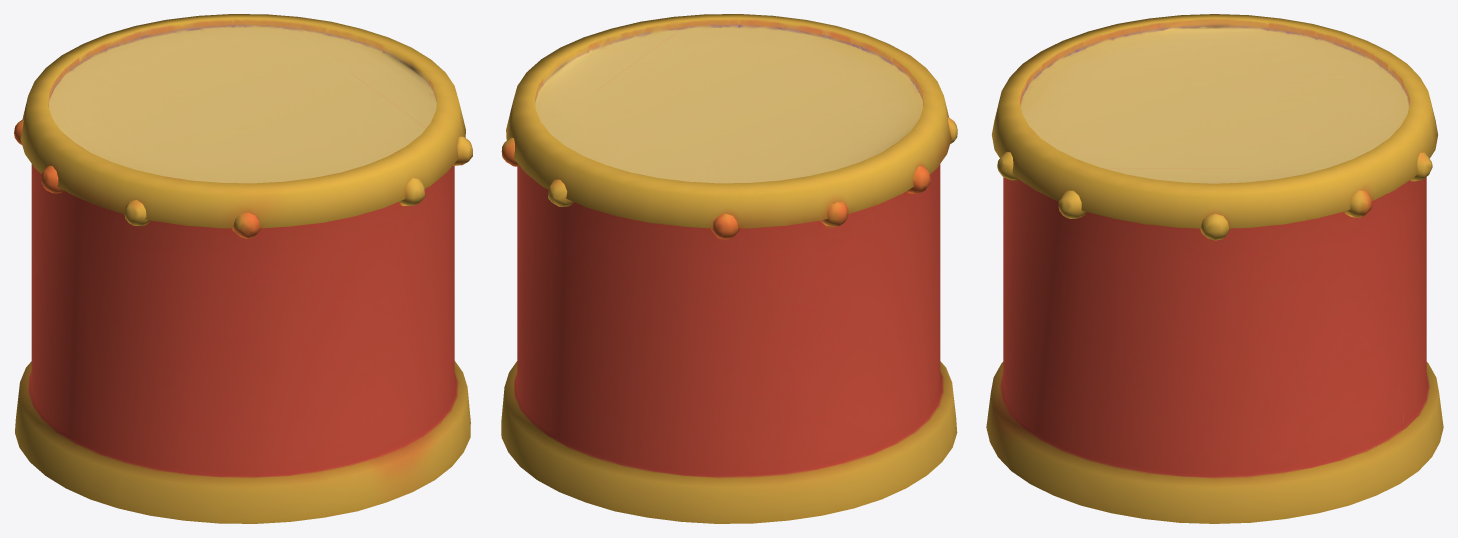
File: podio.glb
The picture shows the model from 3 angles, left to right: view 1: azimuth 30°, elevation 25°; view 2: azimuth 150°, elevation 25°; view 3: azimuth 270°, elevation 25°; orthographic projection.
Parts seen in each view (by area): view 1: tripo_node_4f969741-c69f-407a-85ba-4761918a1a8b; view 2: tripo_node_4f969741-c69f-407a-85ba-4761918a1a8b; view 3: tripo_node_4f969741-c69f-407a-85ba-4761918a1a8b.
Boxes of the visible parts, bbox=[...] form: tripo_node_4f969741-c69f-407a-85ba-4761918a1a8b: bbox=[14, 14, 472, 523]; tripo_node_4f969741-c69f-407a-85ba-4761918a1a8b: bbox=[501, 14, 957, 523]; tripo_node_4f969741-c69f-407a-85ba-4761918a1a8b: bbox=[986, 14, 1443, 523].
Size of the model in its own units: 0.998 by 0.7793 by 0.9902.
1 material, 1 textured.
